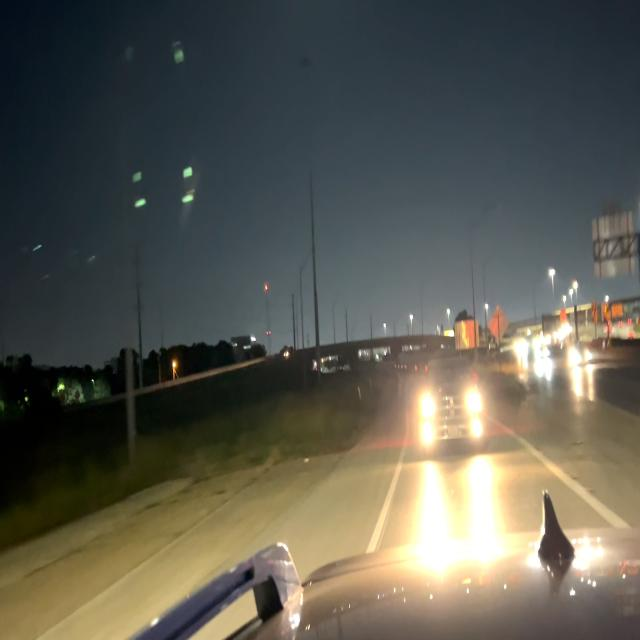back-of-sign: (594, 200, 637, 277), (489, 306, 508, 342)
